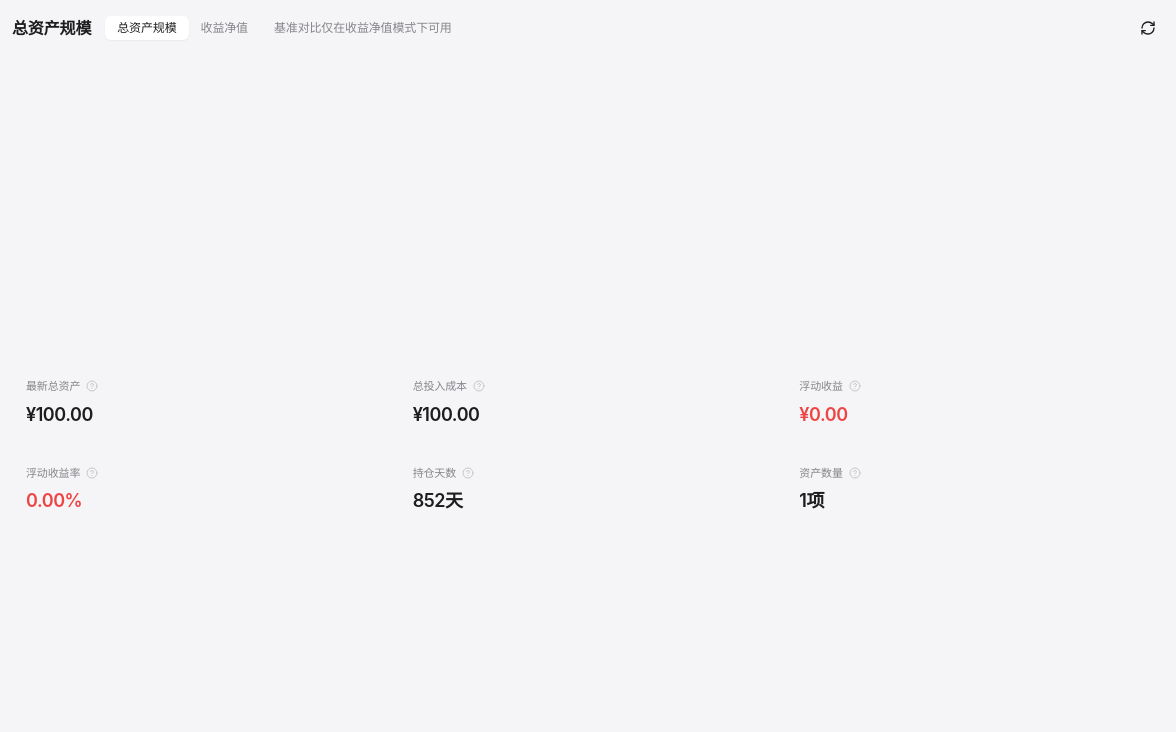
it: NavChart › renders performance metrics and benchmark cards only in performance mode
This screenshot has width=1176, height=732.
Step 1. Click the button "收益净值" → (224, 28), box [188, 16, 260, 40]
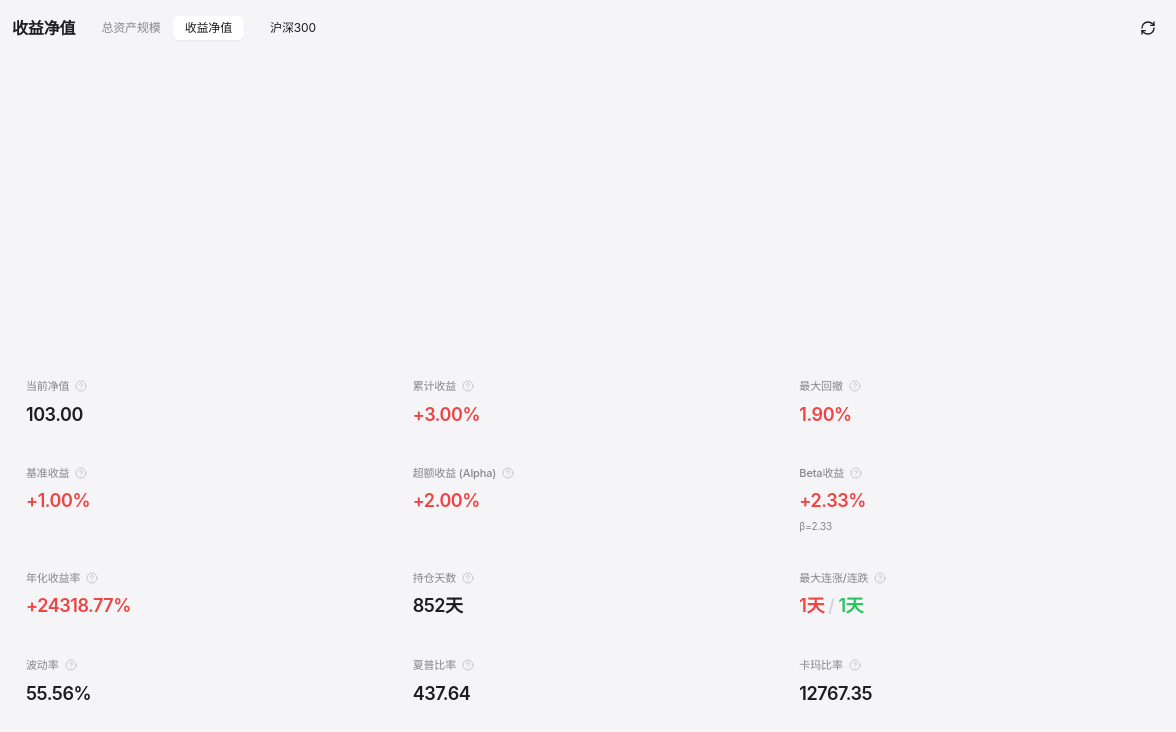
Result: the dropdown named "基准选择" is shown at [258, 14, 330, 42]
Result: the text "累计收益" is shown at [413, 378, 456, 394]
Result: the text "最大回撤" is shown at [799, 378, 843, 394]
